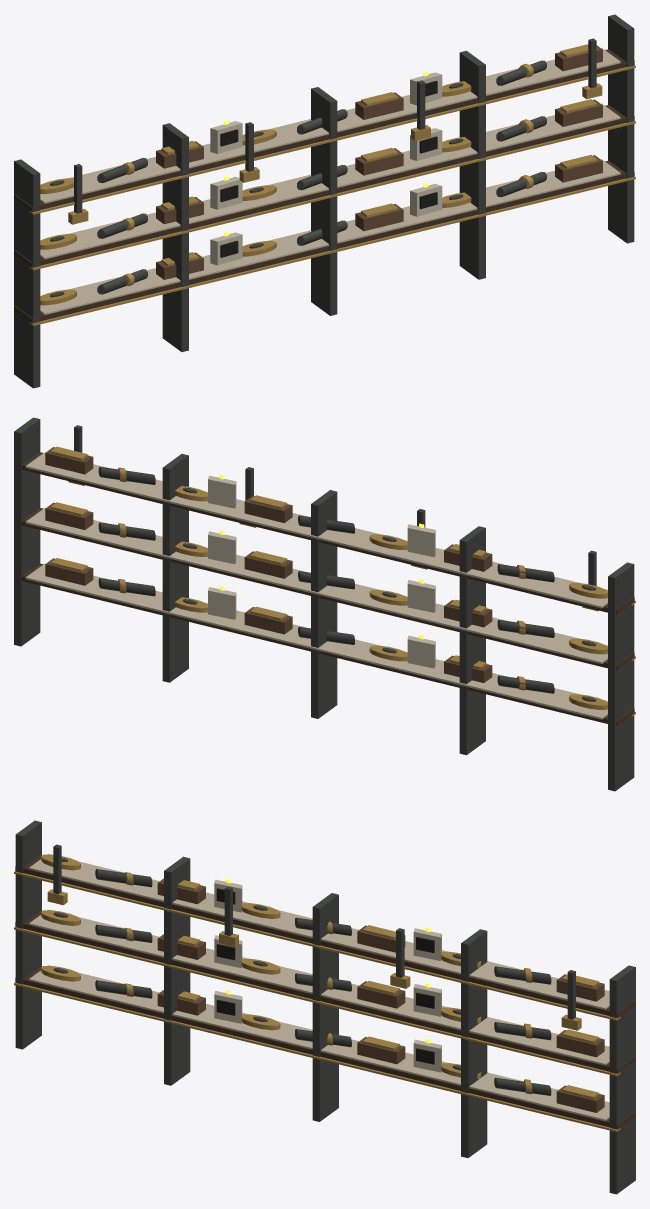
Rendered from goods_shelf_junk.glb.
3 views of the same model, one above another, from view 1: azimuth 30°, elevation 25°; view 2: azimuth 150°, elevation 25°; view 3: azimuth 330°, elevation 25° (orthographic).
Parts seen in each view (by area): view 1: goods_shelf_junk; view 2: goods_shelf_junk; view 3: goods_shelf_junk.
Boxes of the visible parts, bbox=[...] form: goods_shelf_junk: bbox=[14, 14, 635, 388]; goods_shelf_junk: bbox=[14, 417, 635, 791]; goods_shelf_junk: bbox=[14, 820, 635, 1194].
Size of the model in its own units: 6.8 by 2.3 by 0.46.
